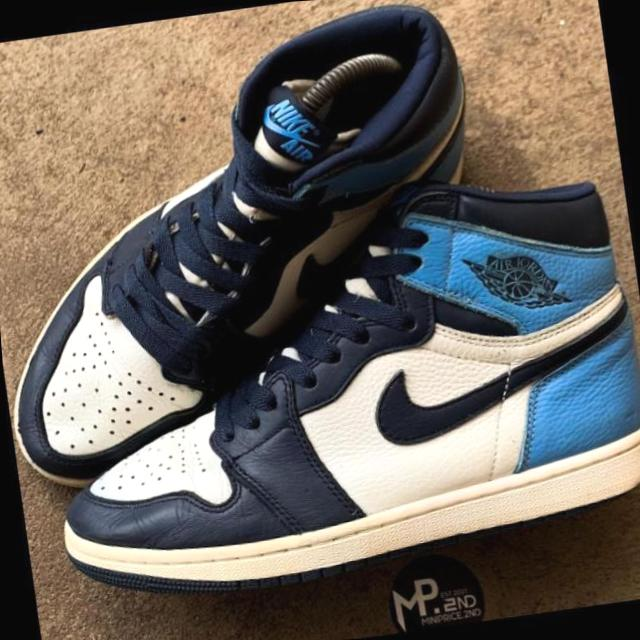nike_original_jordan: (11, 154, 640, 615), (0, 8, 535, 501)
